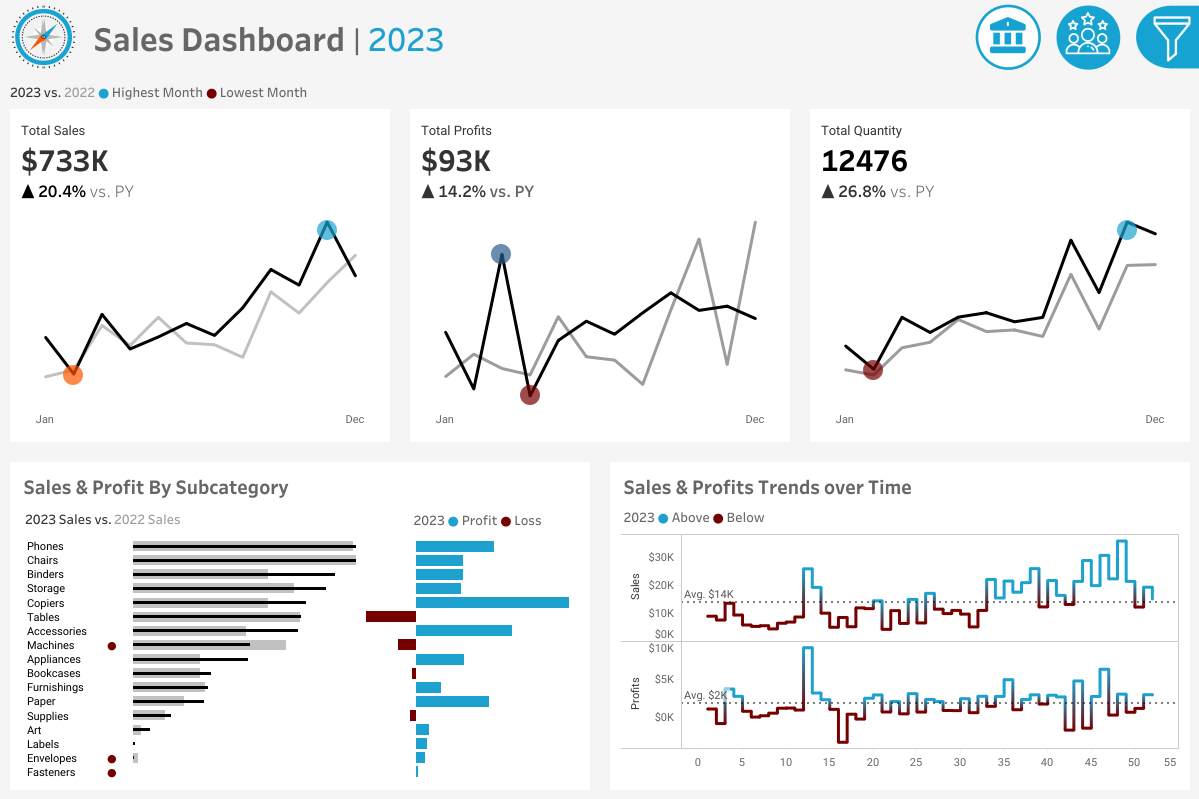

What the dashboard file says about the page in this screenshot:
{"tool":"tableau","page":{"name":"Sales Dashboard","canvas":[1200,800],"ordinal":1},"visuals":[{"type":"image","param":"Image/Icon - Logo.png","box":[0,0,87,75]},{"type":"text","box":[87,0,873,75]},{"type":"dashboard-object","box":[969,0,80,75]},{"type":"dashboard-object","box":[1049,0,79,75]},{"type":"blank","box":[981,10,209,99]},{"type":"worksheet","title":"Legend of KPI","mark":"Automatic","box":[0,75,1200,34]},{"type":"worksheet","title":"KPI Sales","mark":"Automatic","rows":["Calculation_502995803841392644"],"cols":["Order Date"],"box":[0,109,400,343]},{"type":"worksheet","title":"KPI Profits","mark":"Automatic","cols":["Order Date"],"box":[400,109,400,343]},{"type":"worksheet","title":"KPI Quantity","mark":"Automatic","rows":["Min/Max Profits (copy)_502995803892453399"],"cols":["Order Date"],"box":[800,109,400,343]},{"type":"text","box":[981,109,209,36]},{"type":"parameter","param":"[Parameters].[Parameter 1]","box":[981,145,209,51]},{"type":"blank","box":[981,196,209,32]},{"type":"text","box":[981,228,209,36]},{"type":"filter","title":"KPI Sales","param":"[federated.0yb9uk61pqnmnt12zm08f08iwseu].[none:Category:nk]","box":[981,264,209,51]},{"type":"filter","title":"KPI Sales","param":"[federated.0yb9uk61pqnmnt12zm08f08iwseu].[none:Sub-Category:nk]","box":[981,315,209,51]},{"type":"blank","box":[981,366,209,34]},{"type":"text","box":[981,400,209,36]},{"type":"filter","title":"KPI Sales","param":"[federated.0yb9uk61pqnmnt12zm08f08iwseu].[none:City:nk]","box":[981,436,209,51]},{"type":"text","box":[17,469,566,40]},{"type":"text","box":[617,469,566,40]},{"type":"filter","title":"KPI Sales","param":"[federated.0yb9uk61pqnmnt12zm08f08iwseu].[none:State:nk]","box":[981,487,209,51]},{"type":"worksheet","title":"Legend of Subcategory Charts","mark":"Automatic","box":[17,509,390,32]},{"type":"text","box":[407,509,176,32]},{"type":"text","box":[617,509,566,32]},{"type":"filter","title":"KPI Sales","param":"[federated.0yb9uk61pqnmnt12zm08f08iwseu].[none:Region:nk]","box":[981,538,209,51]},{"type":"worksheet","title":"Subcategory_chart","mark":"Bar","rows":["Sub-Category","Calculation_502995803898855450"],"cols":["CY Sales (copy)_502995803825917953","Calculation_502995803817947136","Calculation_502995803875590153"],"box":[17,541,566,241.9]},{"type":"worksheet","title":"Weekly_Trends","mark":"Automatic","rows":["Calculation_502995803817947136","Calculation_502995803875590153"],"cols":["Order Date"],"box":[617,541,566,242]}]}

Visuals, with their boxes in screenshot pixels (x1, y1, x2, y2), scaled from the page's 1200x800 canvas onto the 1199x799 screenshot:
image: box(0, 0, 87, 75)
text: box(87, 0, 959, 75)
dashboard-object: box(968, 0, 1048, 75)
dashboard-object: box(1048, 0, 1127, 75)
blank: box(980, 10, 1189, 109)
"Legend of KPI" worksheet: box(0, 75, 1198, 109)
"KPI Sales" worksheet: box(0, 109, 400, 451)
"KPI Profits" worksheet: box(400, 109, 799, 451)
"KPI Quantity" worksheet: box(799, 109, 1198, 451)
text: box(980, 109, 1189, 145)
parameter: box(980, 145, 1189, 196)
blank: box(980, 196, 1189, 228)
text: box(980, 228, 1189, 264)
"KPI Sales" filter: box(980, 264, 1189, 315)
"KPI Sales" filter: box(980, 315, 1189, 366)
blank: box(980, 366, 1189, 400)
text: box(980, 400, 1189, 435)
"KPI Sales" filter: box(980, 435, 1189, 486)
text: box(17, 468, 583, 508)
text: box(616, 468, 1182, 508)
"KPI Sales" filter: box(980, 486, 1189, 537)
"Legend of Subcategory Charts" worksheet: box(17, 508, 407, 540)
text: box(407, 508, 583, 540)
text: box(616, 508, 1182, 540)
"KPI Sales" filter: box(980, 537, 1189, 588)
"Subcategory_chart" worksheet (Bar marks): box(17, 540, 583, 782)
"Weekly_Trends" worksheet: box(616, 540, 1182, 782)
